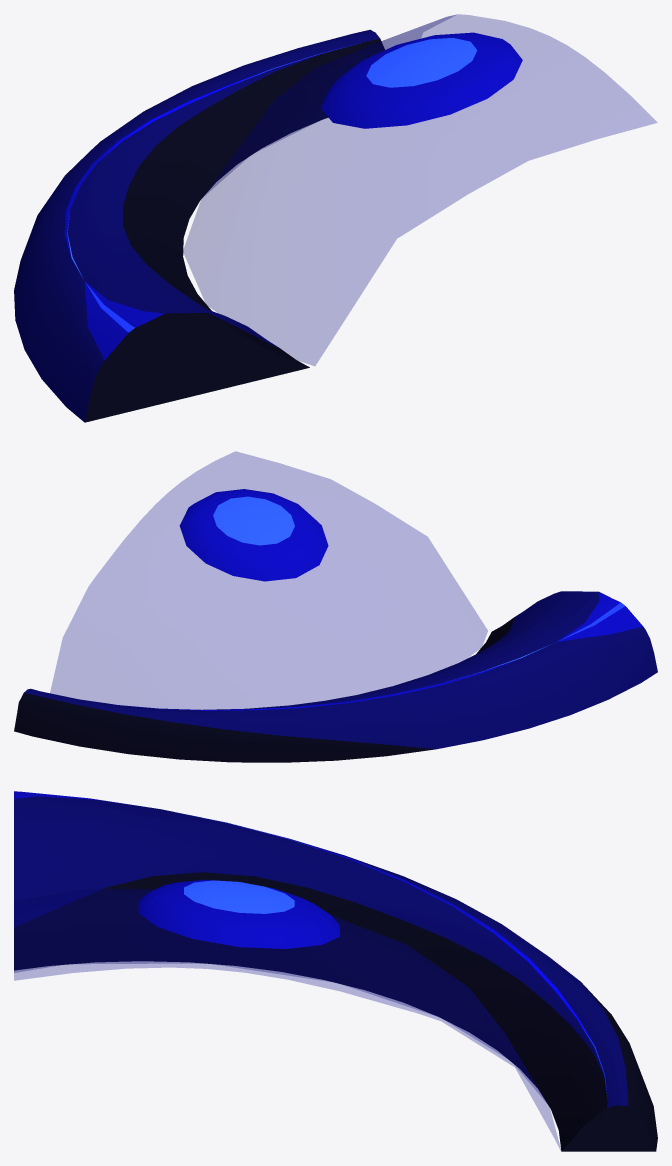
Rendered from shot_charge_239.glb.
3 views of the same model, one above another, from view 1: azimuth 30°, elevation 25°; view 2: azimuth 150°, elevation 25°; view 3: azimuth 270°, elevation 25° (orthographic). The views are drawn at different scales.
Visible parts, largest first — view 1: charge_bubble_cap_shot_charge_239, charge_bubble_ring_shot_charge_239, charge_bubble_lens_shot_charge_239; view 2: charge_bubble_cap_shot_charge_239, charge_bubble_ring_shot_charge_239, charge_bubble_lens_shot_charge_239; view 3: charge_bubble_ring_shot_charge_239, charge_bubble_cap_shot_charge_239, charge_bubble_lens_shot_charge_239.
Part boxes in pixels (x1=…): charge_bubble_cap_shot_charge_239: x1=183, y1=14, x2=657, y2=365; charge_bubble_ring_shot_charge_239: x1=14, y1=29, x2=384, y2=422; charge_bubble_lens_shot_charge_239: x1=321, y1=32, x2=522, y2=128; charge_bubble_cap_shot_charge_239: x1=50, y1=451, x2=487, y2=709; charge_bubble_ring_shot_charge_239: x1=14, y1=591, x2=657, y2=762; charge_bubble_lens_shot_charge_239: x1=179, y1=489, x2=328, y2=581; charge_bubble_ring_shot_charge_239: x1=14, y1=791, x2=657, y2=1151; charge_bubble_cap_shot_charge_239: x1=14, y1=888, x2=560, y2=1150; charge_bubble_lens_shot_charge_239: x1=138, y1=879, x2=339, y2=948.
Bounding box in the file's own units: 10.97 × 3.39 × 10.
